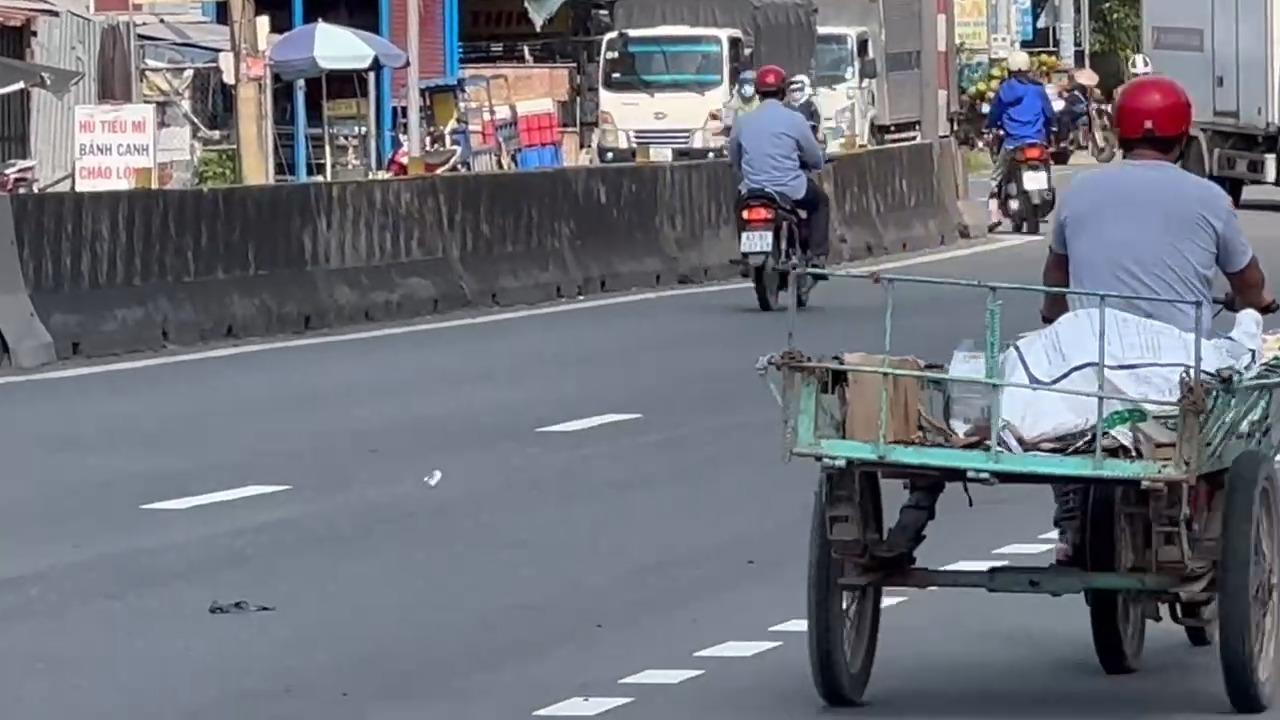bien_so: (738, 229, 773, 254)
